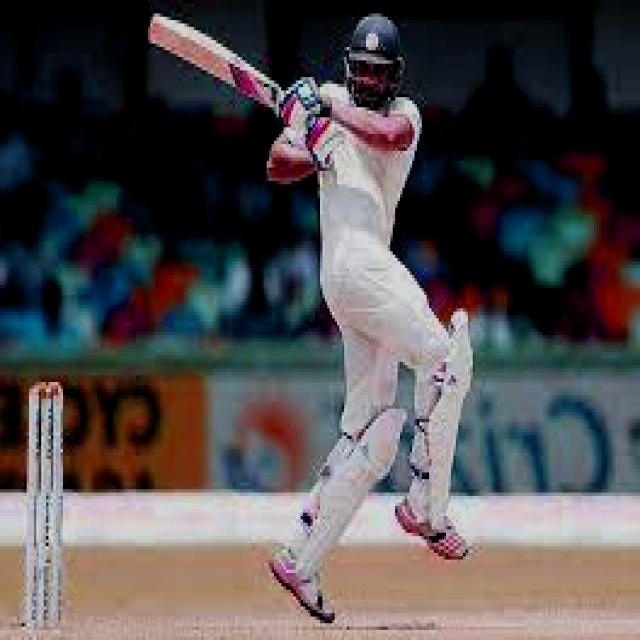toe: (147, 13, 172, 48)
